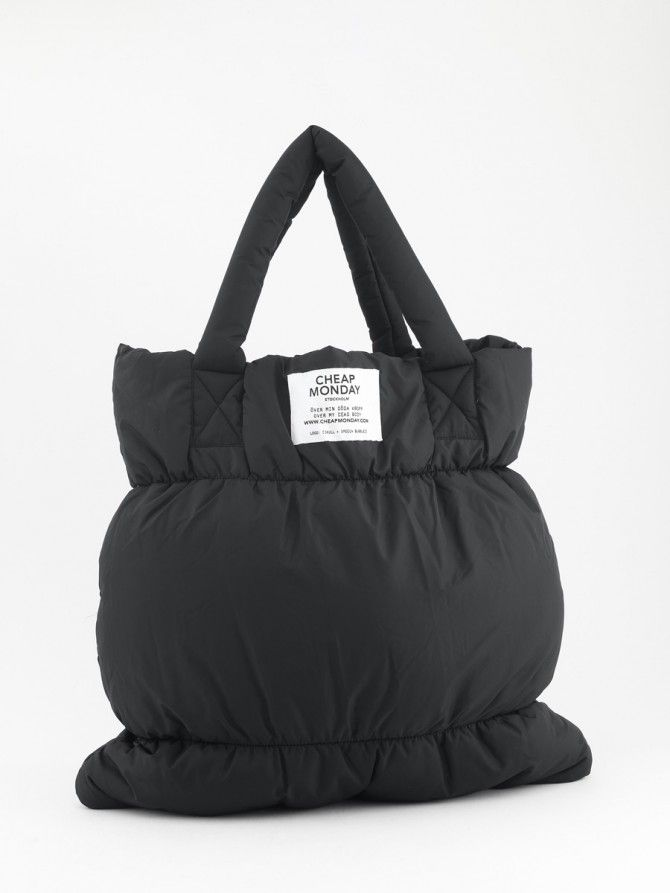nylon: (75, 125, 593, 815)
